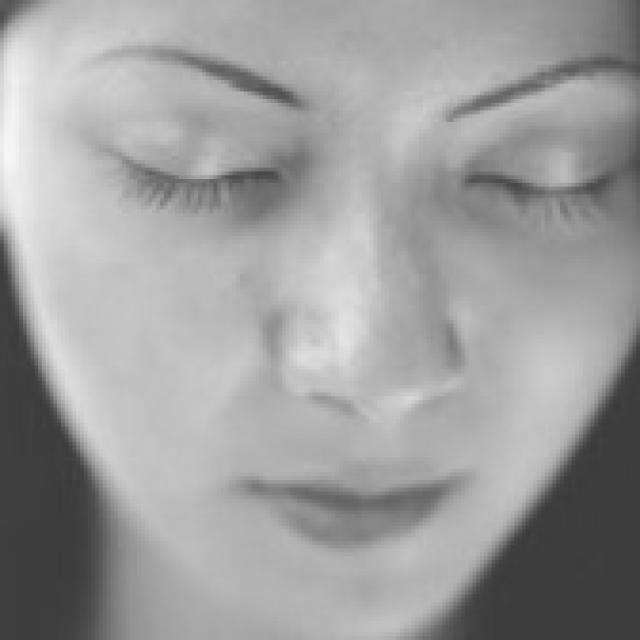real: (0, 0, 640, 640), (100, 121, 638, 246)
